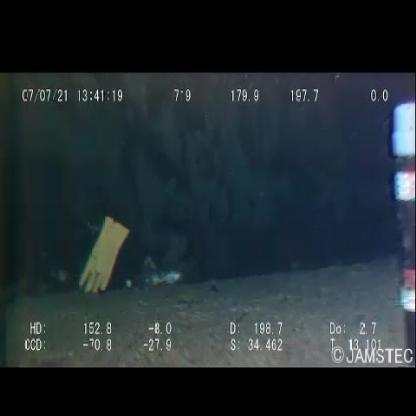Rov: (382, 91, 416, 363)
Rác: (120, 266, 150, 292)
